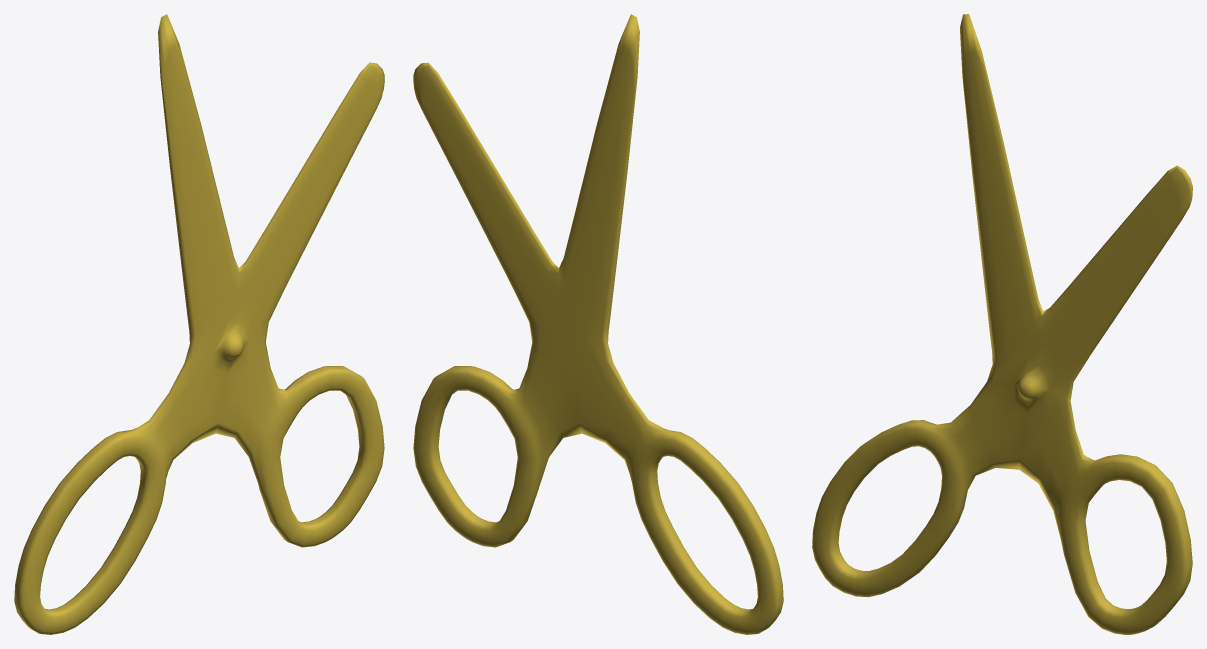
Rendered from makas.fbx.
The picture shows the model from 3 angles, left to right: view 1: azimuth 30°, elevation 25°; view 2: azimuth 150°, elevation 25°; view 3: azimuth 330°, elevation 25°; orthographic projection. The views are drawn at different scales.
Parts seen in each view (by area): view 1: Plane.001; view 2: Plane.001; view 3: Plane.001.
Part boxes in pixels (box(x1,y1,x2,y2)): Plane.001: box(14, 14, 384, 634); Plane.001: box(413, 14, 783, 634); Plane.001: box(812, 14, 1192, 634).
Size of the model in its own units: 27.16 by 41.7 by 1.6.
